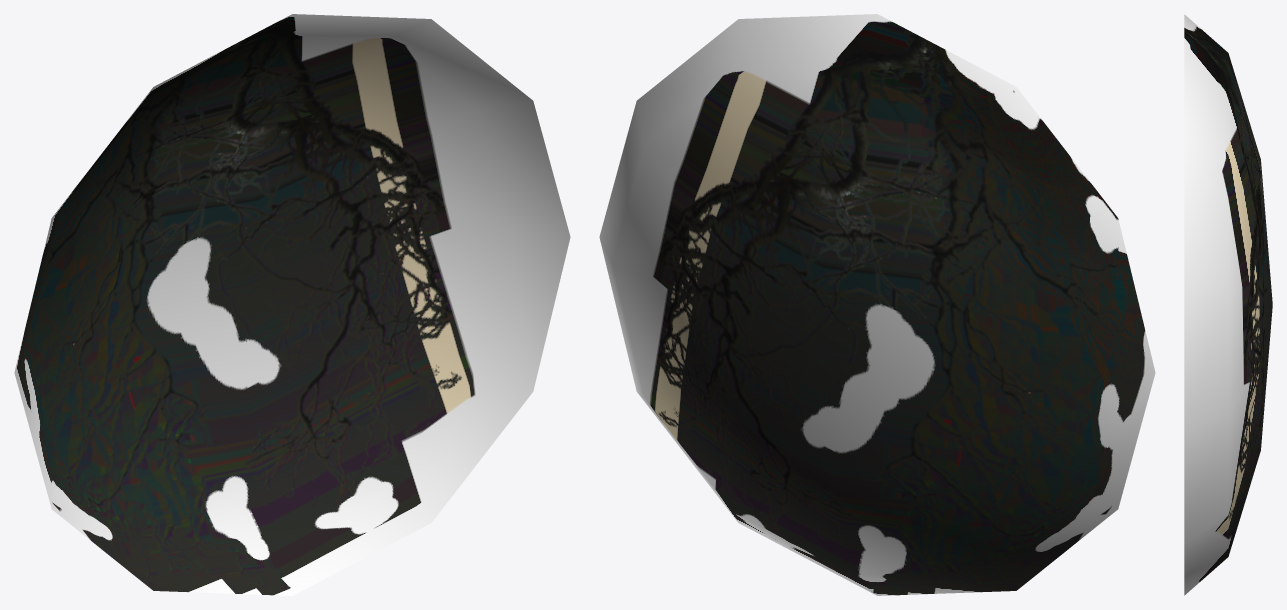
3 views of the same model, side by side, from view 1: azimuth 30°, elevation 25°; view 2: azimuth 150°, elevation 25°; view 3: azimuth 270°, elevation 25° (orthographic). The views are drawn at different scales.
Parts seen in each view (by area): view 1: root3; view 2: root3; view 3: root3.
Boxes of the visible parts, x1,y1,x2,y2 form: root3: [14, 14, 570, 595]; root3: [599, 14, 1155, 595]; root3: [1184, 14, 1272, 595].
Bounding box in the file's own units: 91.55 × 91.55 × 13.89.
